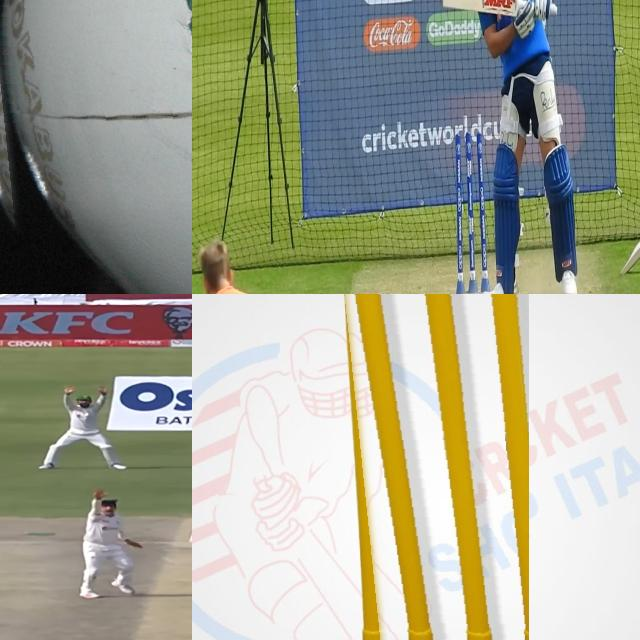Cricket ball: (0, 0, 192, 294)
Stumps: (333, 294, 529, 640), (454, 133, 487, 294)
